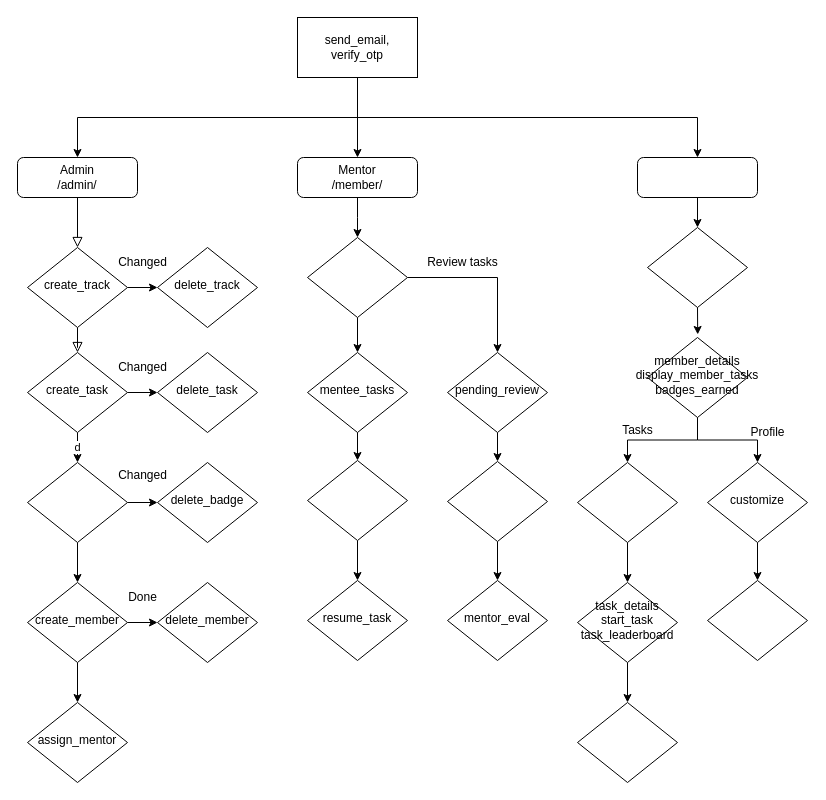
Some shapes in this 826 by 800 pixel diagram are drawn without their labels. Each missing label, with the box of its shape:
create_badge: (26, 462, 128, 542)
display_submisson: (446, 460, 548, 542)
display_track_tasks: (576, 462, 678, 542)
display_tracks select_track: (646, 226, 748, 308)
Mentee /member/: (636, 156, 758, 198)
mentee_details: (306, 236, 408, 318)
pause_task: (306, 460, 408, 540)
submit_task: (576, 702, 678, 782)
track_leaderboard points_leaderboard: (706, 580, 808, 660)
